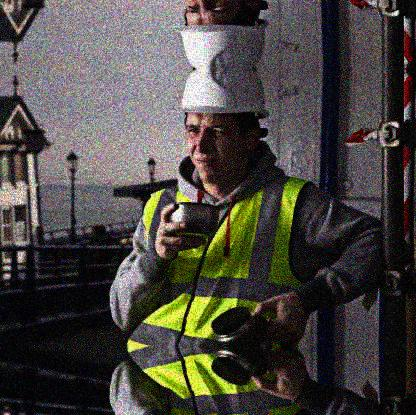helmet: (171, 71, 270, 184), (170, 1, 270, 69)
